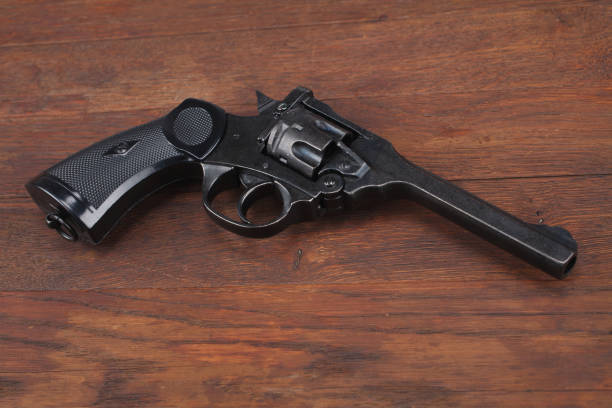gun: (25, 81, 580, 276)
